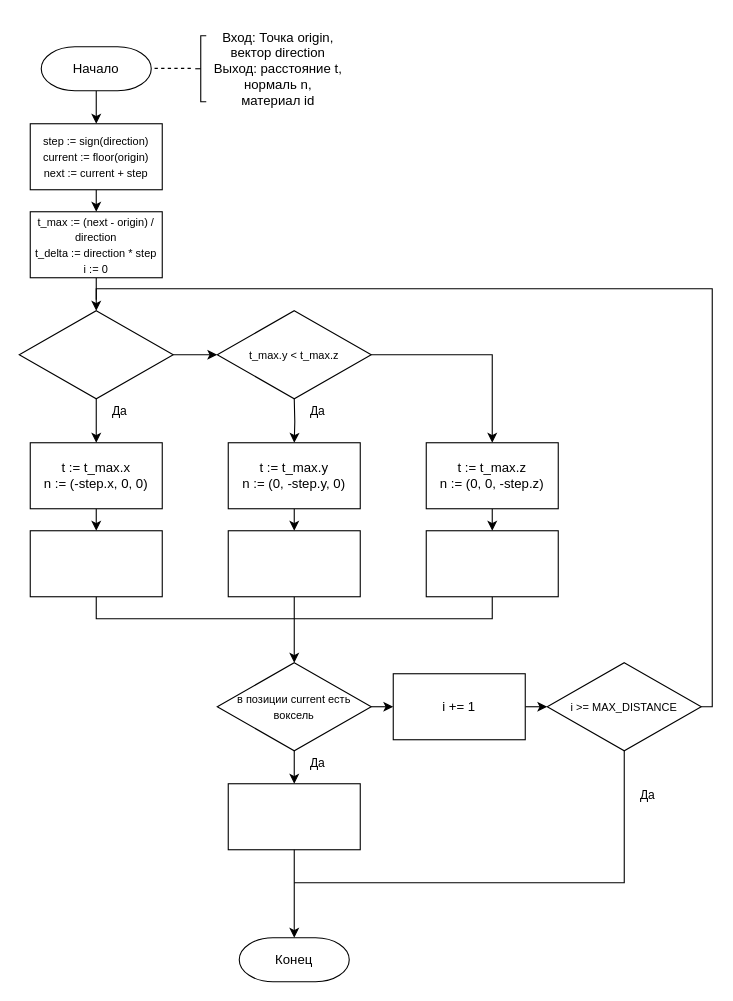
The diagram is 733 pixels wide and 1001 high, and some of its shapes have lost their labels. The box of each missing label's shape, as (x1, y1, x2, y2) in pixels:
id := <идентификатор материала вокселя в current>: (227, 783, 360, 850)
t_max.x += t_delta.x current.x += step.x: (29, 530, 162, 597)
t_max.x < t_max.y && t_max.x < t_max.z: (18, 310, 173, 399)
t_max.y += t_delta.y current.y += step.y: (227, 530, 360, 597)
t_max.z += t_delta.z current.z += step.z: (425, 530, 558, 597)
